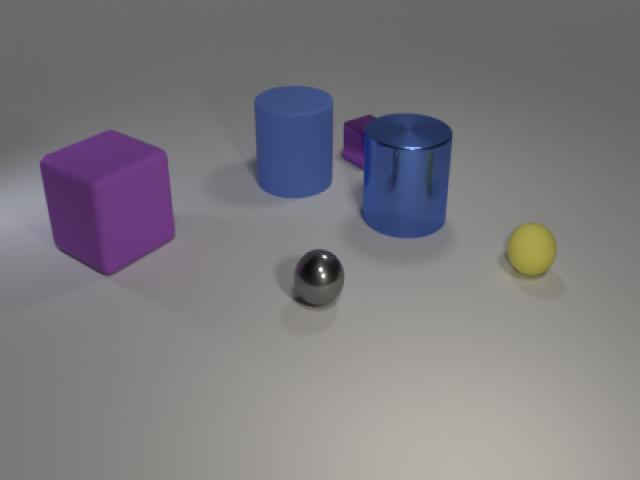cylinder: (358, 104, 456, 245), (250, 82, 338, 201)
round ball: (287, 241, 347, 313), (501, 216, 562, 284)
